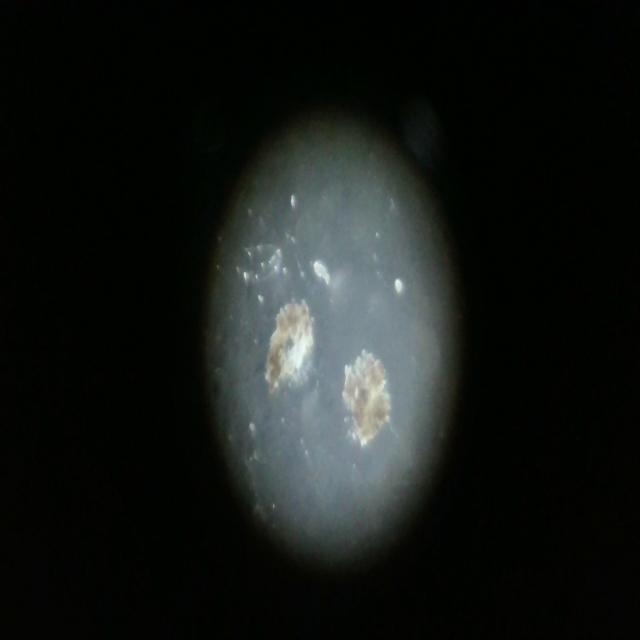alexandrium: (341, 348, 402, 458), (264, 300, 315, 400)
